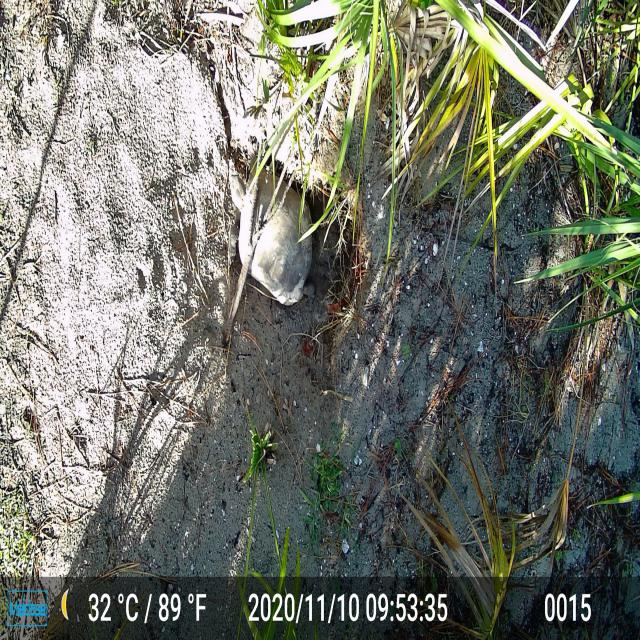tortoise: (226, 158, 318, 314)
